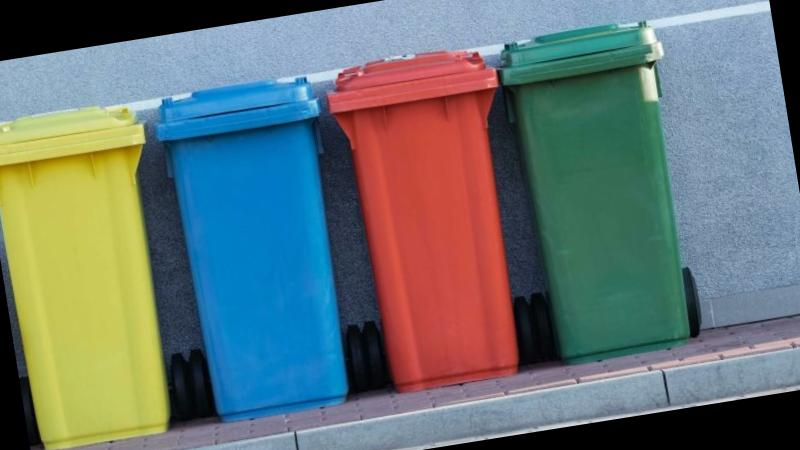garbage bin: (155, 77, 348, 421), (327, 49, 519, 391), (499, 22, 690, 363), (0, 106, 170, 450)
